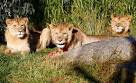lion: (4, 17, 46, 50), (48, 21, 86, 52), (111, 13, 131, 33)
